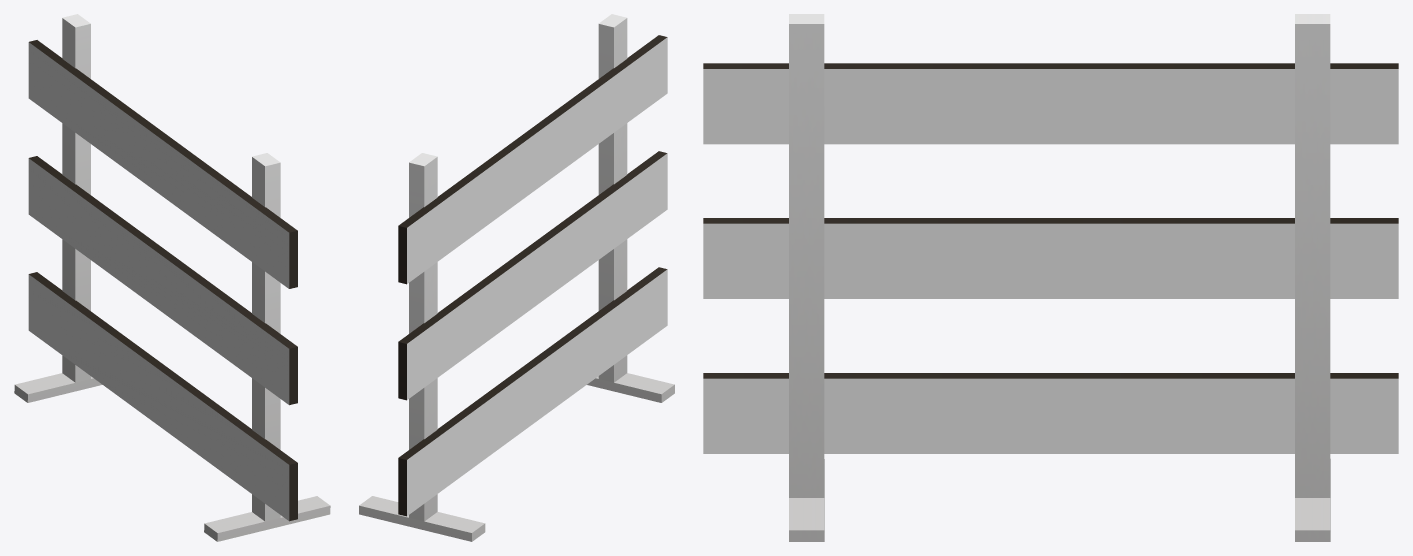
Rendered from señal3.fbx.
3 renders of one model, left to right at view 1: azimuth 30°, elevation 25°; view 2: azimuth 150°, elevation 25°; view 3: azimuth 270°, elevation 25°, orthographic. The views are drawn at different scales.
Parts seen in each view (by area): view 1: señal3; view 2: señal3; view 3: señal3.
Boxes of the visible parts, <box> form: señal3: <box>14,14,330,541</box>; señal3: <box>359,14,674,541</box>; señal3: <box>703,14,1398,541</box>.
Size of the model in its own units: 111 by 341 by 442.
